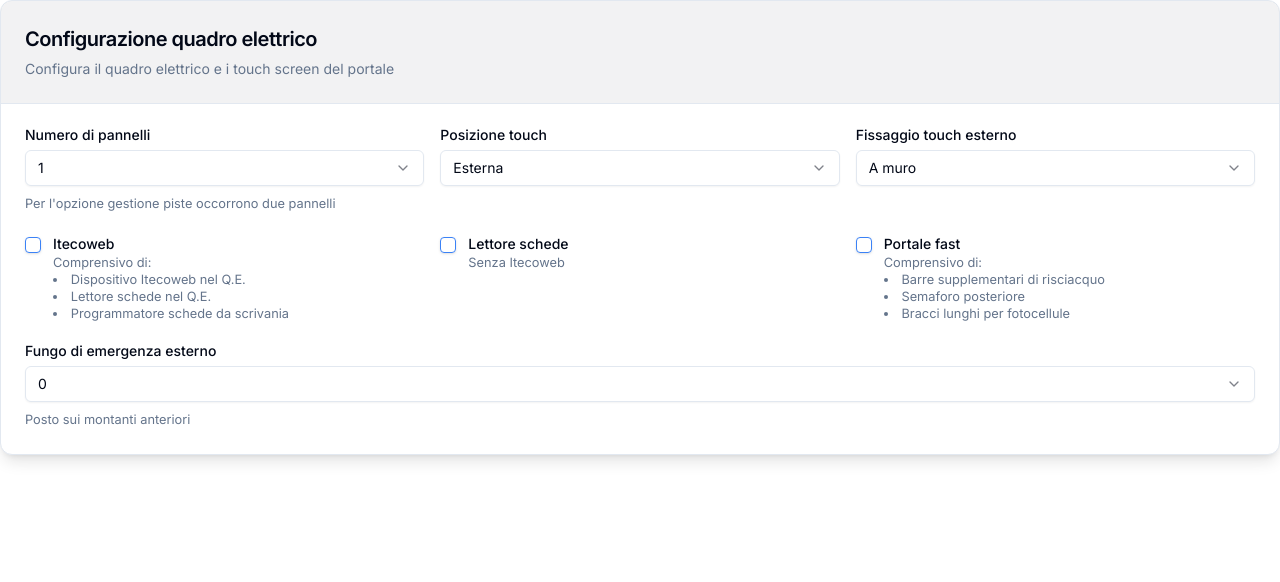
Test: Multi-step field dependency chains › Touch section › card_qty field visible when itecoweb or card_reader is checked
The image size is (1280, 582).
Expected: the text "Numero di schede" is not shown
Check itecoweb
Click the text "Itecoweb": (84, 244) [53,235,114,252]
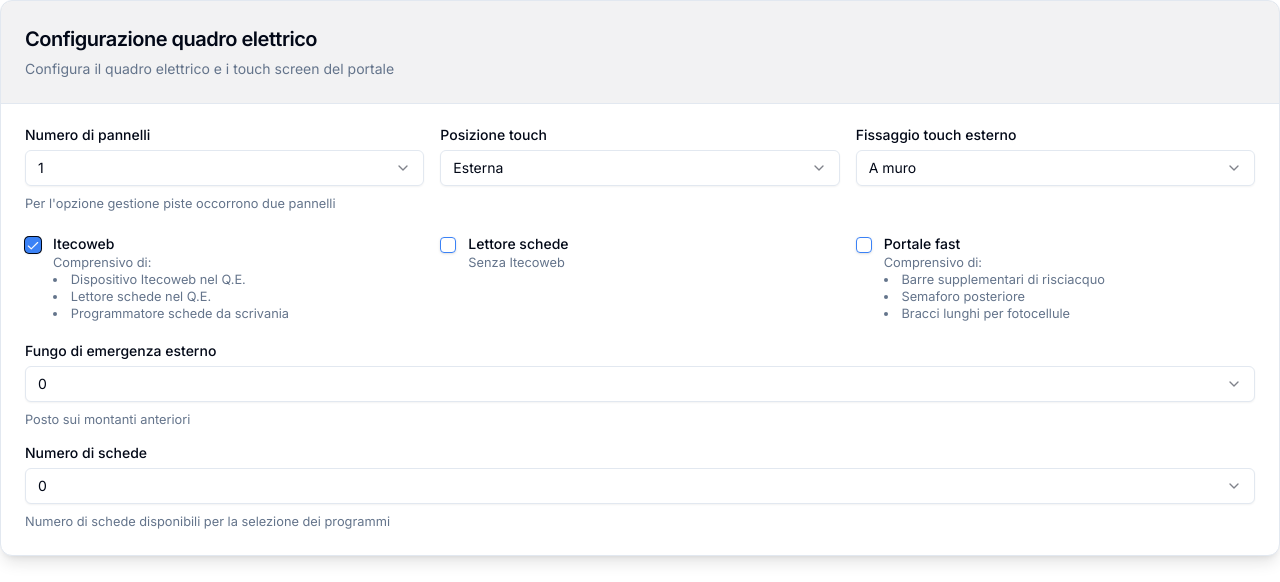
Result: the text "Numero di schede" is shown at [25,444,147,461]
